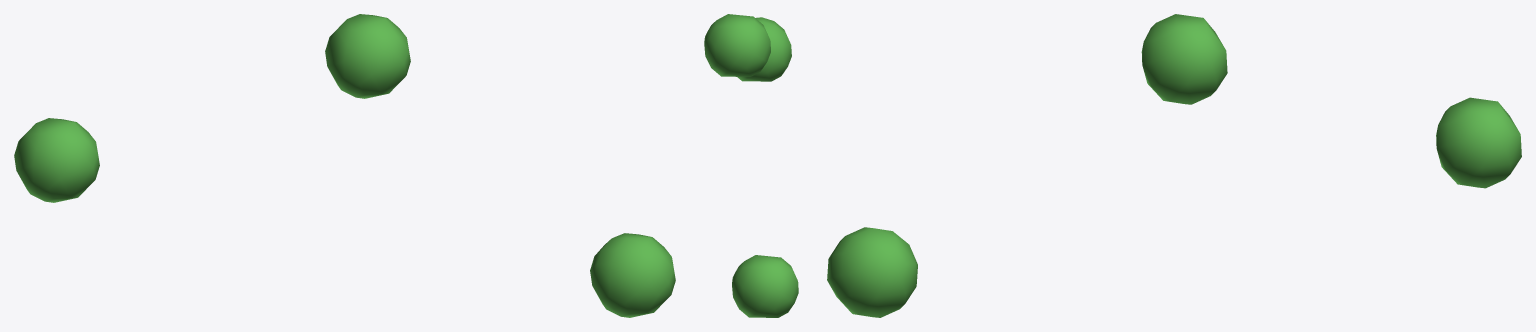
Rendered from linfatico-splenic-nodes.glb.
3 views of the same model, side by side, from view 1: azimuth 30°, elevation 25°; view 2: azimuth 150°, elevation 25°; view 3: azimuth 270°, elevation 25° (orthographic). The views are drawn at different scales.
Visible parts, largest first — view 1: Splenic nodes; view 2: Splenic nodes; view 3: Splenic nodes.
Part boxes in pixels (left/top/right/bottom): Splenic nodes: left=14, top=14, right=675, bottom=317; Splenic nodes: left=704, top=14, right=798, bottom=317; Splenic nodes: left=827, top=14, right=1521, bottom=317.
Bounding box in the file's own units: 0.0127 × 0.00786 × 0.0195.
